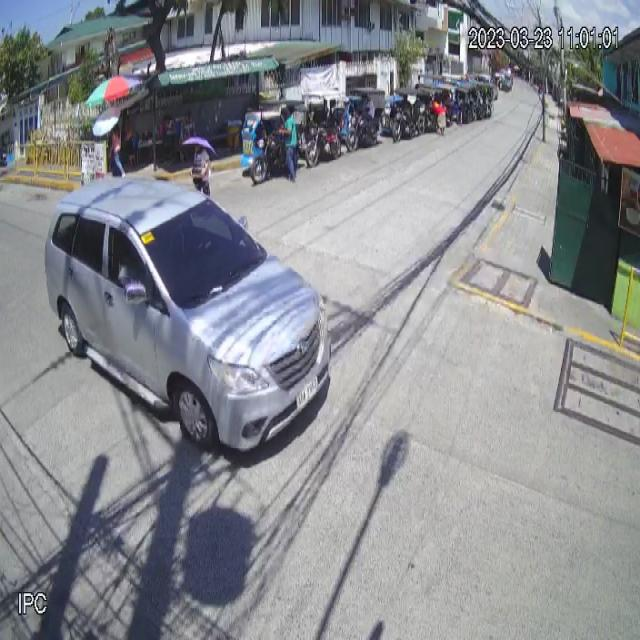Car: (45, 175, 328, 452)
